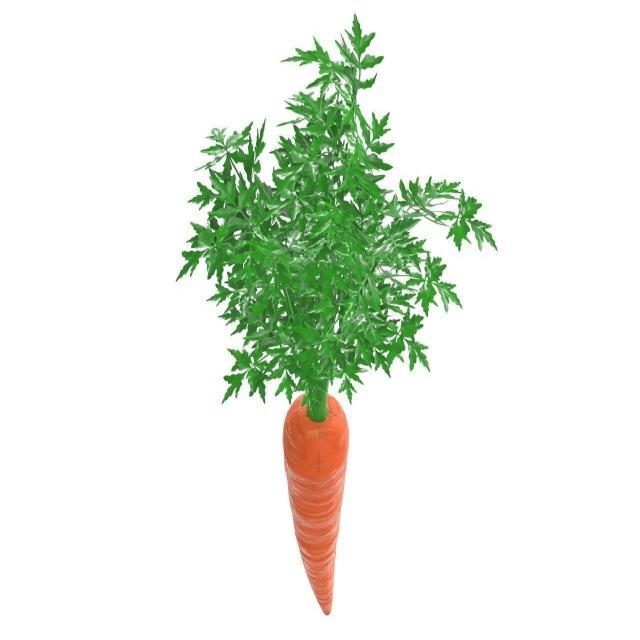carrot: (284, 390, 349, 624)
